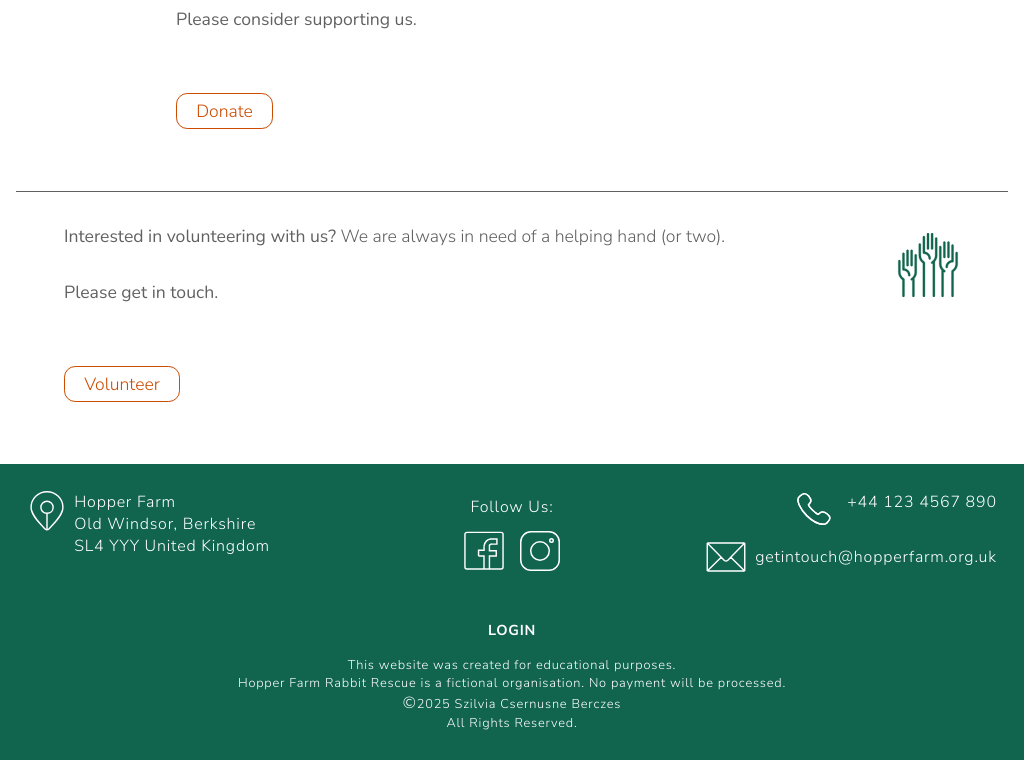
Volunteer Form › sending valid form with required fields only should submit the form
(page scrolled)
Click the button "Volunteer". click: (122, 384)
box: [64,366,180,402]
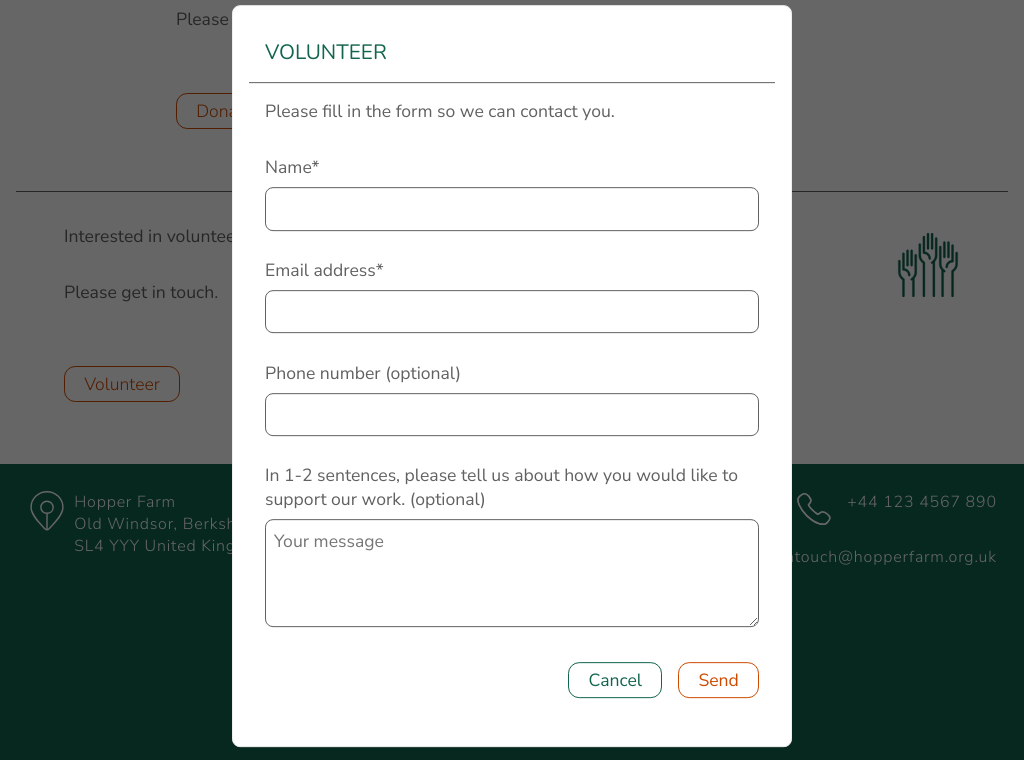
Type "John Doe" into the field with test id "name". click: (512, 209)
box: [265,187,759,231]
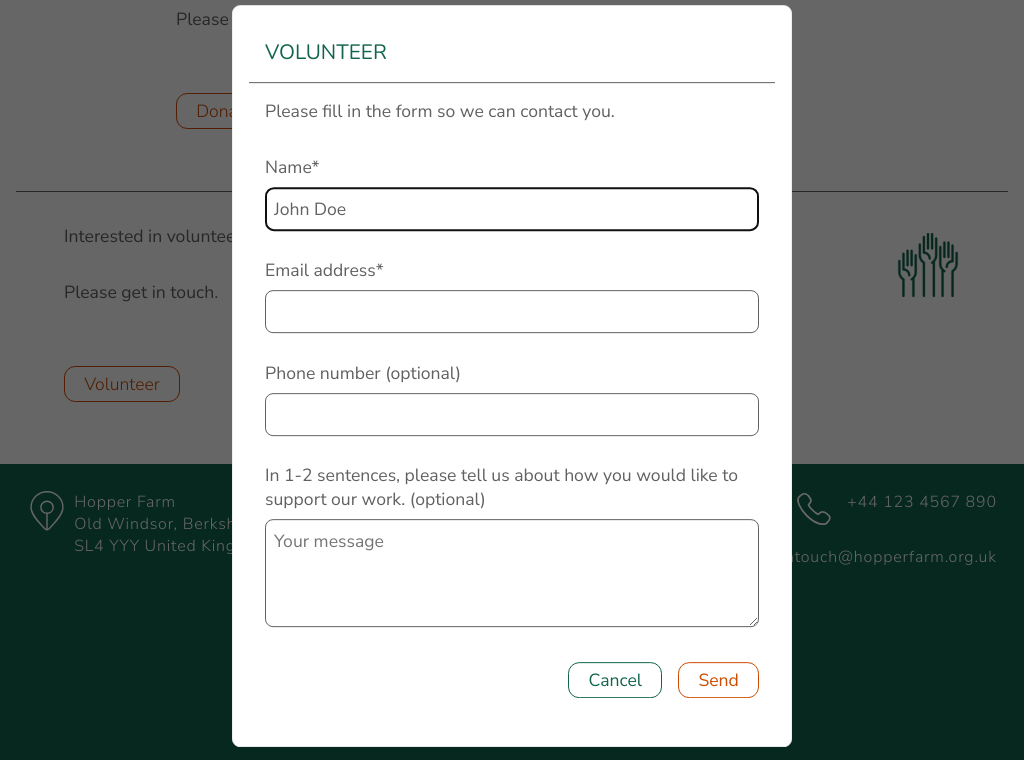
Type "test@test.com" into the field with test id "email". click: (512, 312)
box: [265,290,759,334]
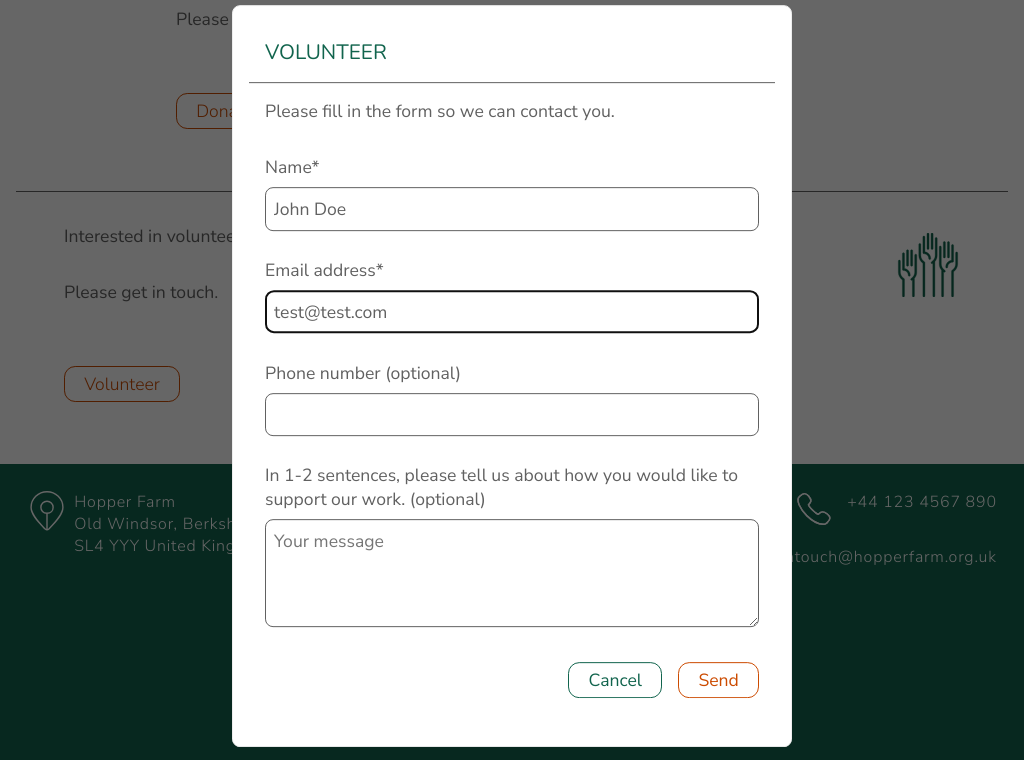
Click the button "Send". click: (719, 680)
box: [678,662,759,698]
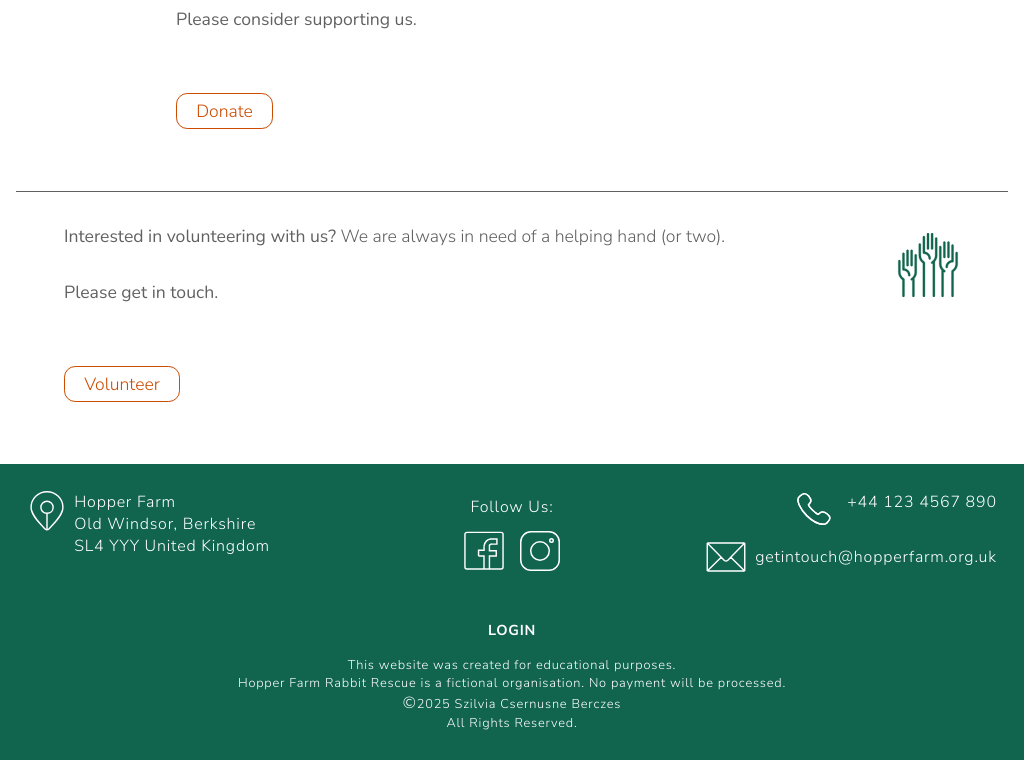
Now the form with test id "volunteer-form" is gone
